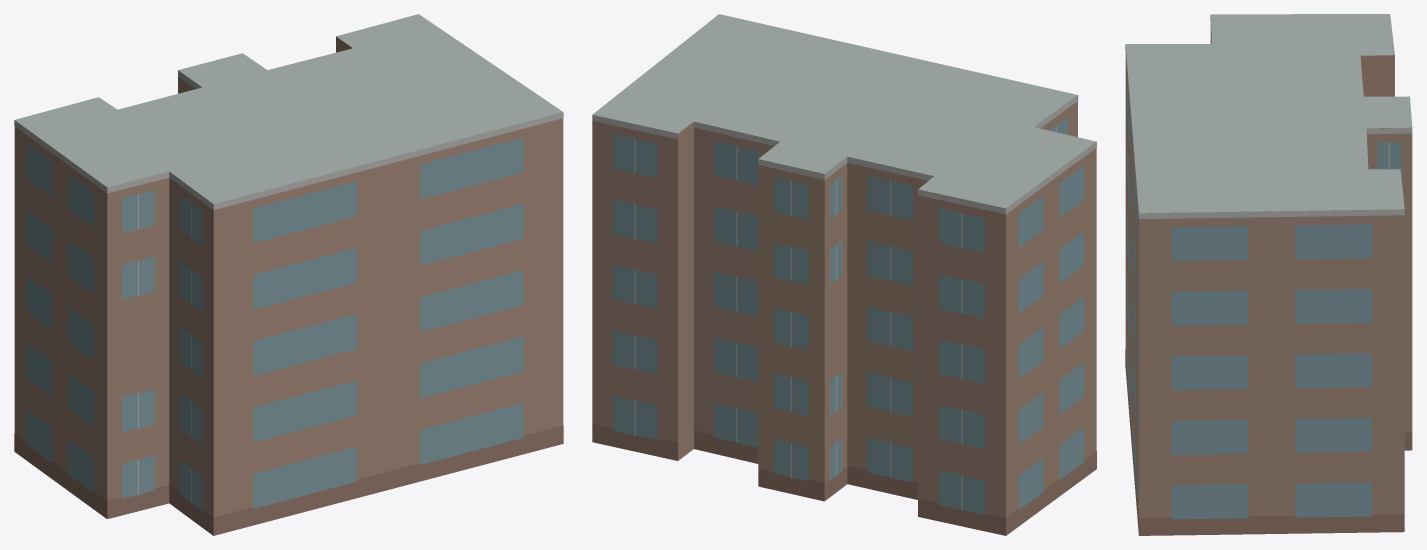
Rendered from survey-upis-32633488.glb.
3 views of the same model, side by side, from view 1: azimuth 30°, elevation 25°; view 2: azimuth 150°, elevation 25°; view 3: azimuth 270°, elevation 25° (orthographic). The views are drawn at different scales.
Visible parts, largest first — view 1: survey-upis-32633488.tmp; view 2: survey-upis-32633488.tmp; view 3: survey-upis-32633488.tmp.
Boxes of the visible parts, x1,y1,x2,y2 form: survey-upis-32633488.tmp: [14, 14, 563, 535]; survey-upis-32633488.tmp: [592, 14, 1096, 535]; survey-upis-32633488.tmp: [1125, 14, 1412, 535].
Size of the model in its own units: 17.76 by 13.4 by 10.81.
